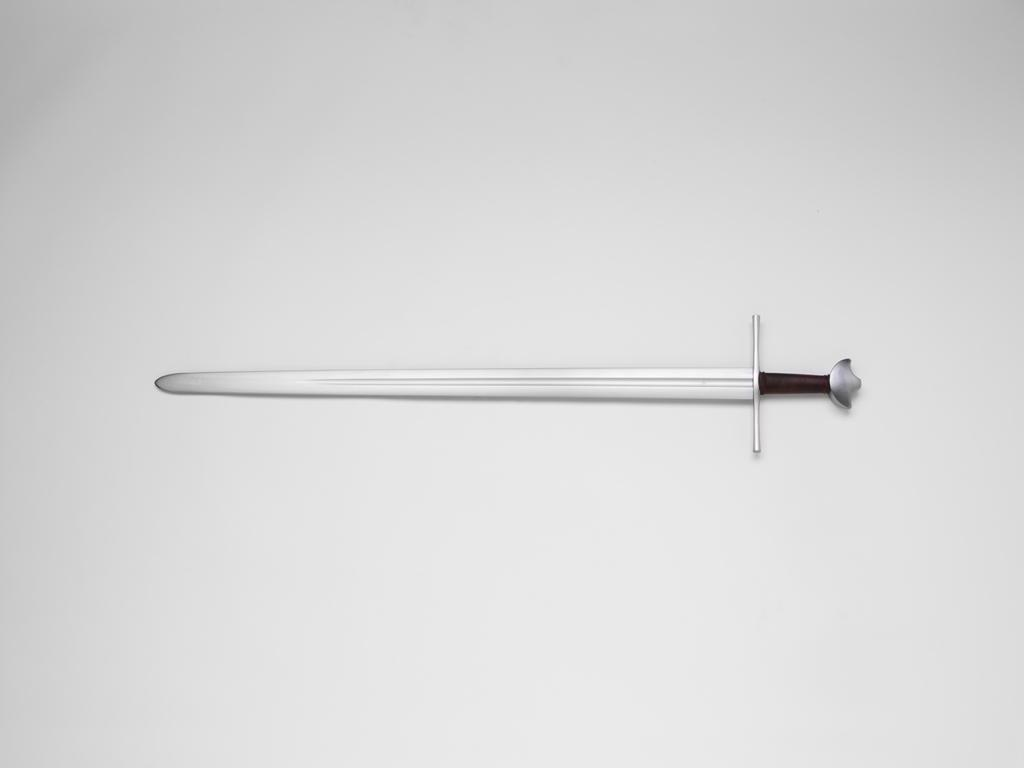Sword: (153, 314, 862, 452)
